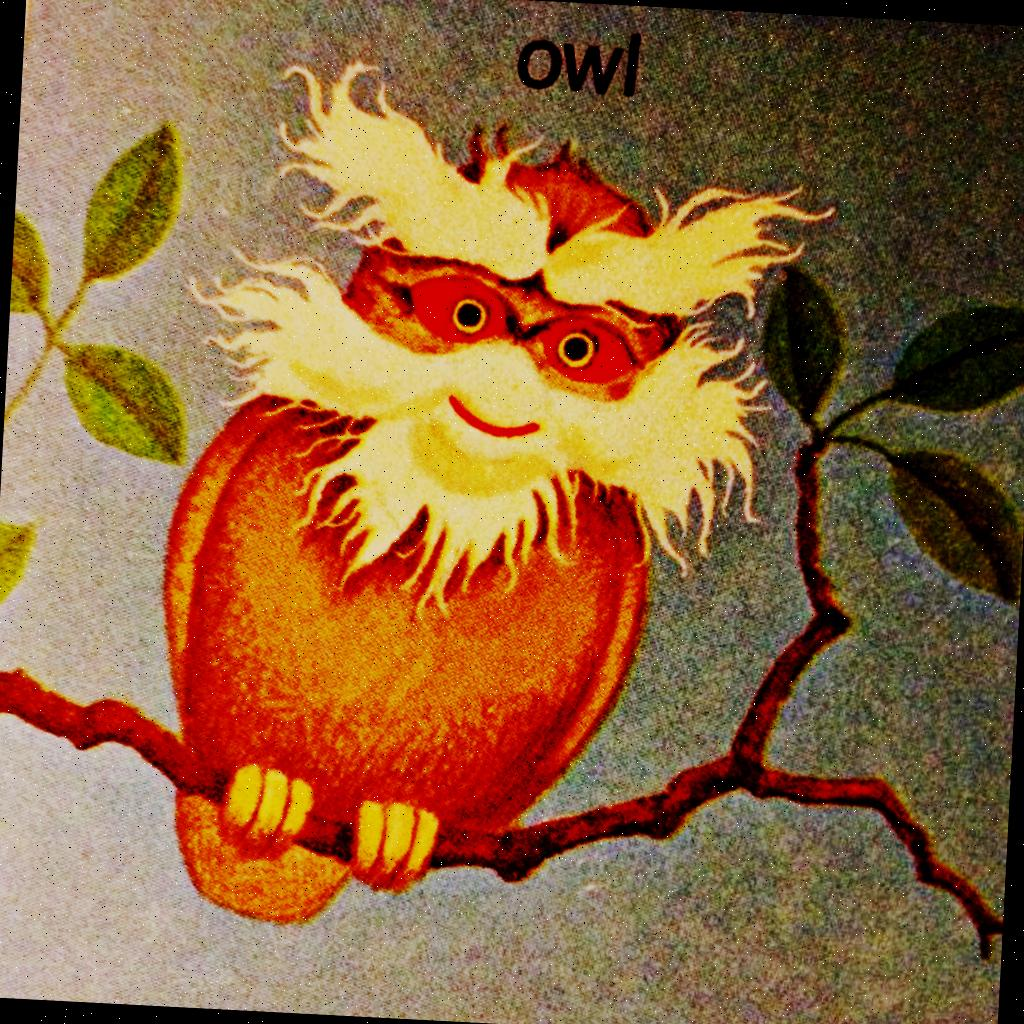Owl: (136, 91, 694, 955)
